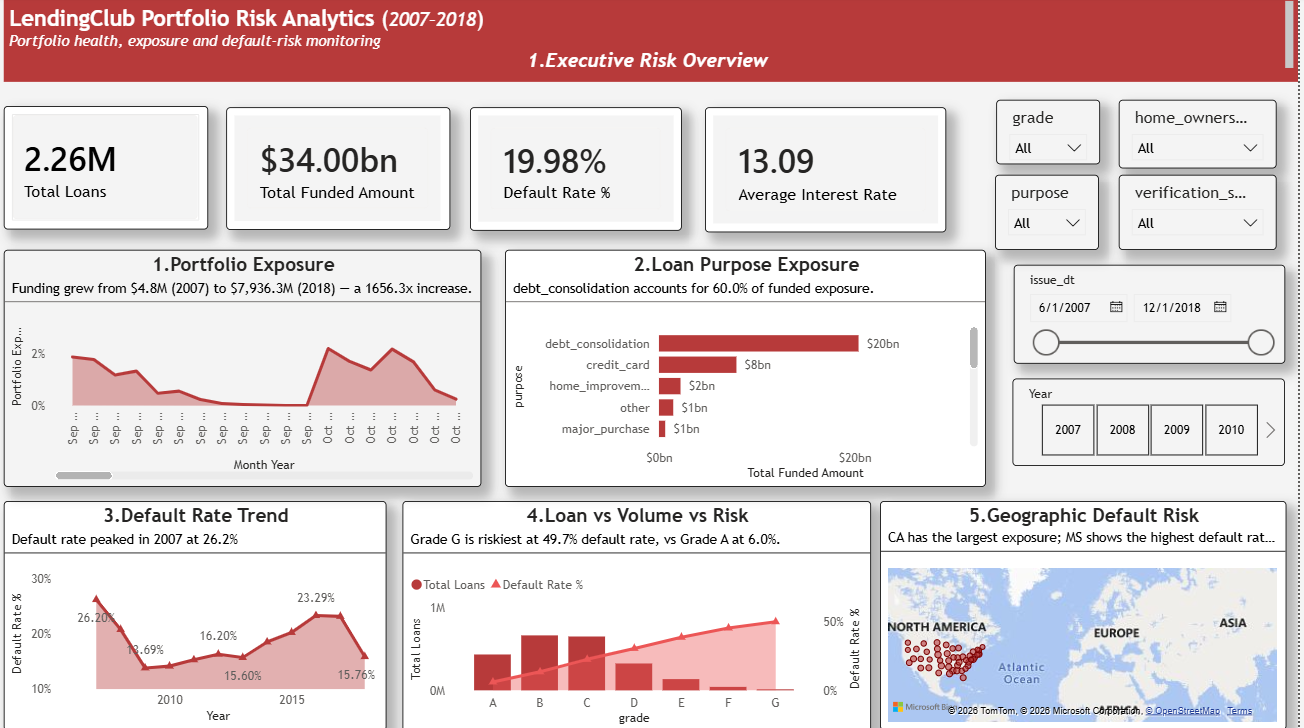

Layout of this report page (visuals, bound fields, positions):
{"tool":"powerbi","page":{"name":"Executive Risk Overview","canvas":[1280,720],"ordinal":0},"visuals":[{"type":"textbox","box":[13.5,0,1266.9,84.4],"z":0},{"type":"cardVisual","fields":{"Data":["_Measures.Total Loans"]},"box":[13.5,107.6,199.8,120.9],"z":1000},{"type":"cardVisual","fields":{"Data":["_Measures.Total Funded Amount"]},"box":[231.1,108.8,218.9,119.6],"z":2000},{"type":"cardVisual","fields":{"Data":["_Measures.Default Rate %"]},"box":[469.6,108.8,207.5,120.6],"z":3000},{"type":"cardVisual","fields":{"Data":["_Measures.Average Interest Rate"]},"box":[699.5,108.8,236,122.3],"z":4000},{"type":"lineChart","title":"3.Default Rate Trend","fields":{"Category":["DateTable.Year"],"Y":["_Measures.Default Rate %"]},"box":[13.5,494,374.2,225],"z":5000},{"type":"lineStackedColumnComboChart","title":"4.Loan vs Volume vs Risk","fields":{"Category":["loans.grade"],"Y":["_Measures.Total Loans"],"Y2":["_Measures.Default Rate %"]},"box":[403.5,494,458.6,226.2],"z":6000},{"type":"barChart","title":"2.Loan Purpose Exposure","fields":{"Y":["_Measures.Total Funded Amount"],"Category":["loans.purpose"]},"box":[503.8,248.2,470.8,232.3],"z":7000},{"type":"map","title":"5.Geographic Default Risk","fields":{"Category":["loans.addr_state"],"Size":["_Measures.Default Rate %"]},"box":[870.7,494,397.4,223.8],"z":8000},{"type":"slicer","fields":{"Values":["loans.grade"]},"box":[984.4,101.5,101.5,63.6],"z":9000},{"type":"slicer","fields":{"Values":["loans.issue_dt"]},"box":[1001.5,262.9,265.4,96.6],"z":10000},{"type":"slicer","fields":{"Values":["loans.purpose"]},"box":[983.2,174.9,101.5,73.4],"z":11000},{"type":"slicer","fields":{"Values":["loans.home_ownership"]},"box":[1104.2,101.5,154.1,67.3],"z":12000},{"type":"slicer","fields":{"Values":["loans.verification_status"]},"box":[1104.2,174.9,154.1,73.4],"z":13000},{"type":"lineChart","title":"1.Portfolio Exposure","fields":{"Y":["_Measures.Portfolio Exposure %"],"Category":["loans.Month Year"]},"box":[13.5,248.2,467.1,232.3],"z":14000},{"type":"slicer","fields":{"Values":["DateTable.Year"]},"box":[1000.3,374.2,266.6,85.6],"z":15000}]}

Visuals, with their boxes in screenshot pixels (x1, y1, x2, y2), scaled from the page's 1280x720 canvas onto the 1304x728 screenshot:
textbox: x1=14 y1=0 x2=1303 y2=85
cardVisual - _Measures.Total Loans: x1=14 y1=109 x2=217 y2=231
cardVisual - _Measures.Total Funded Amount: x1=235 y1=110 x2=458 y2=231
cardVisual - _Measures.Default Rate %: x1=478 y1=110 x2=690 y2=232
cardVisual - _Measures.Average Interest Rate: x1=713 y1=110 x2=953 y2=234
"3.Default Rate Trend" lineChart: x1=14 y1=499 x2=395 y2=727
"4.Loan vs Volume vs Risk" lineStackedColumnComboChart: x1=411 y1=499 x2=878 y2=727
"2.Loan Purpose Exposure" barChart: x1=513 y1=251 x2=993 y2=486
"5.Geographic Default Risk" map: x1=887 y1=499 x2=1292 y2=726
slicer - loans.grade: x1=1003 y1=103 x2=1106 y2=167
slicer - loans.issue_dt: x1=1020 y1=266 x2=1291 y2=363
slicer - loans.purpose: x1=1002 y1=177 x2=1105 y2=251
slicer - loans.home_ownership: x1=1125 y1=103 x2=1282 y2=171
slicer - loans.verification_status: x1=1125 y1=177 x2=1282 y2=251
"1.Portfolio Exposure" lineChart: x1=14 y1=251 x2=490 y2=486
slicer - DateTable.Year: x1=1019 y1=378 x2=1291 y2=465
